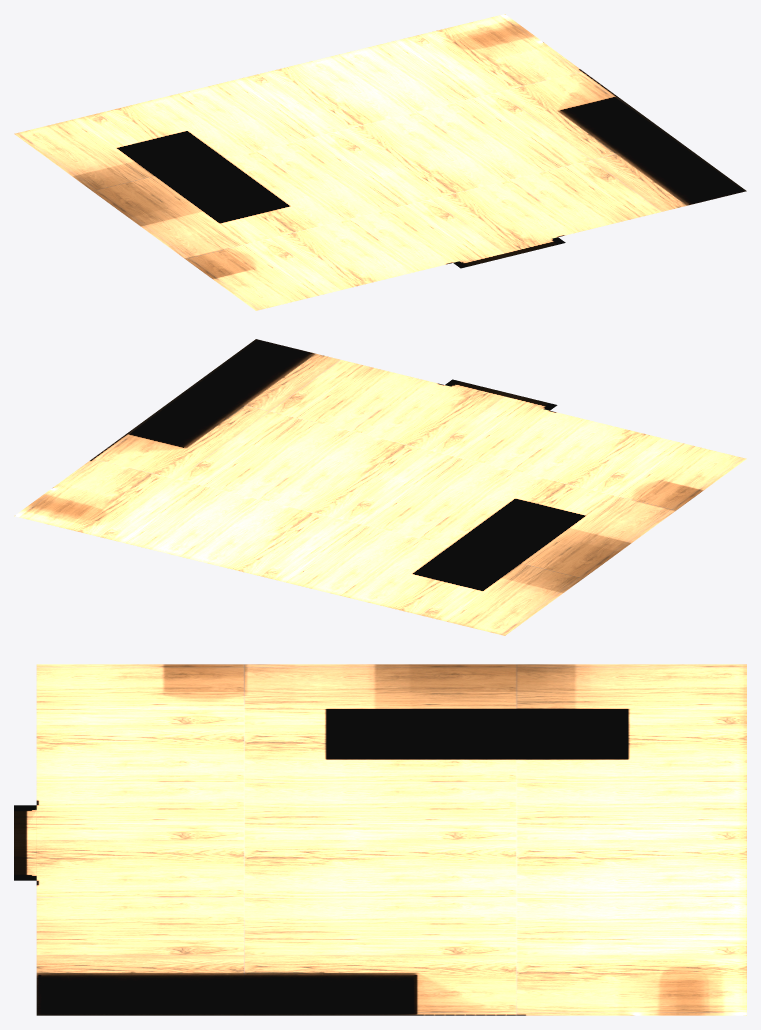
The model's file is Floor_rock_wood.glb.
3 views of the same model, one above another, from view 1: azimuth 30°, elevation 25°; view 2: azimuth 150°, elevation 25°; view 3: azimuth 270°, elevation 25° (orthographic). The views are drawn at different scales.
Parts seen in each view (by area): view 1: Floor_rock_wood; view 2: Floor_rock_wood; view 3: Floor_rock_wood.
Part boxes in pixels (left/top/right/bottom): Floor_rock_wood: left=14, top=14, right=746, bottom=310; Floor_rock_wood: left=14, top=339, right=746, bottom=635; Floor_rock_wood: left=14, top=664, right=746, bottom=1015.
Size of the model in its own units: 3.67 by 5.31e-07 by 3.23.
Materials: 1 (1 with a texture image).
